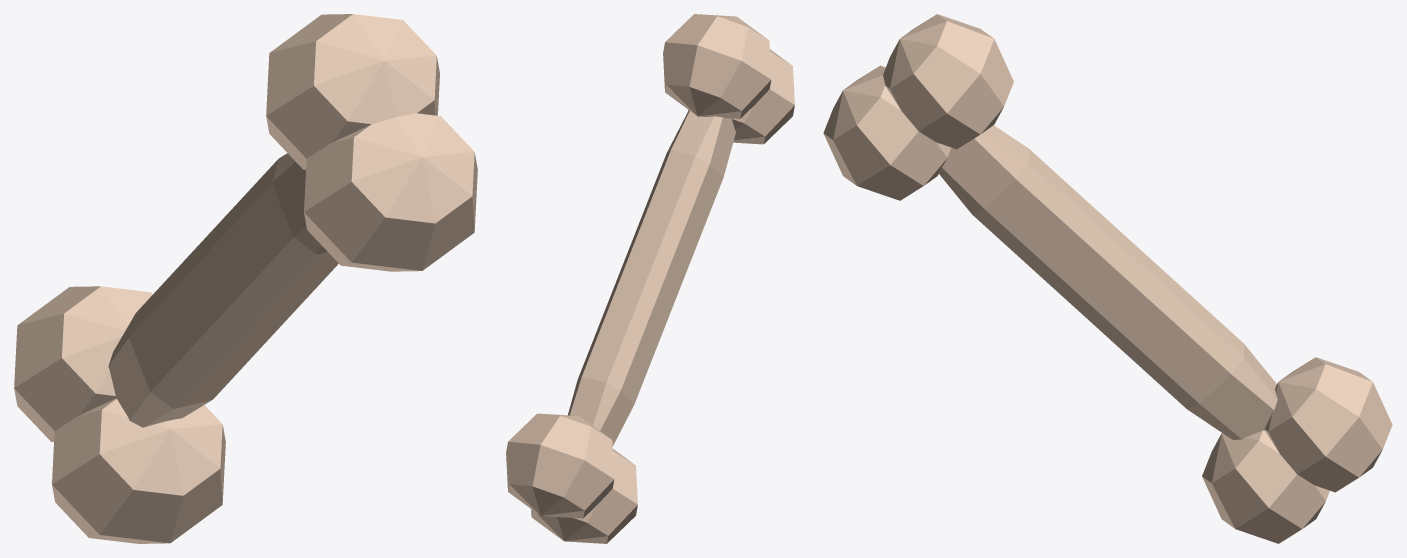
File: Bone.fbx
The picture shows the model from 3 angles, left to right: view 1: azimuth 30°, elevation 25°; view 2: azimuth 150°, elevation 25°; view 3: azimuth 270°, elevation 25°; orthographic projection. The views are drawn at different scales.
Parts seen in each view (by area): view 1: Sphere.002; view 2: Sphere.002; view 3: Sphere.002.
Part boxes in pixels (left/top/right/bottom): Sphere.002: left=14, top=14, right=477, bottom=543; Sphere.002: left=506, top=14, right=794, bottom=543; Sphere.002: left=823, top=14, right=1392, bottom=543.
Size of the model in its own units: 40 by 151 by 151.
